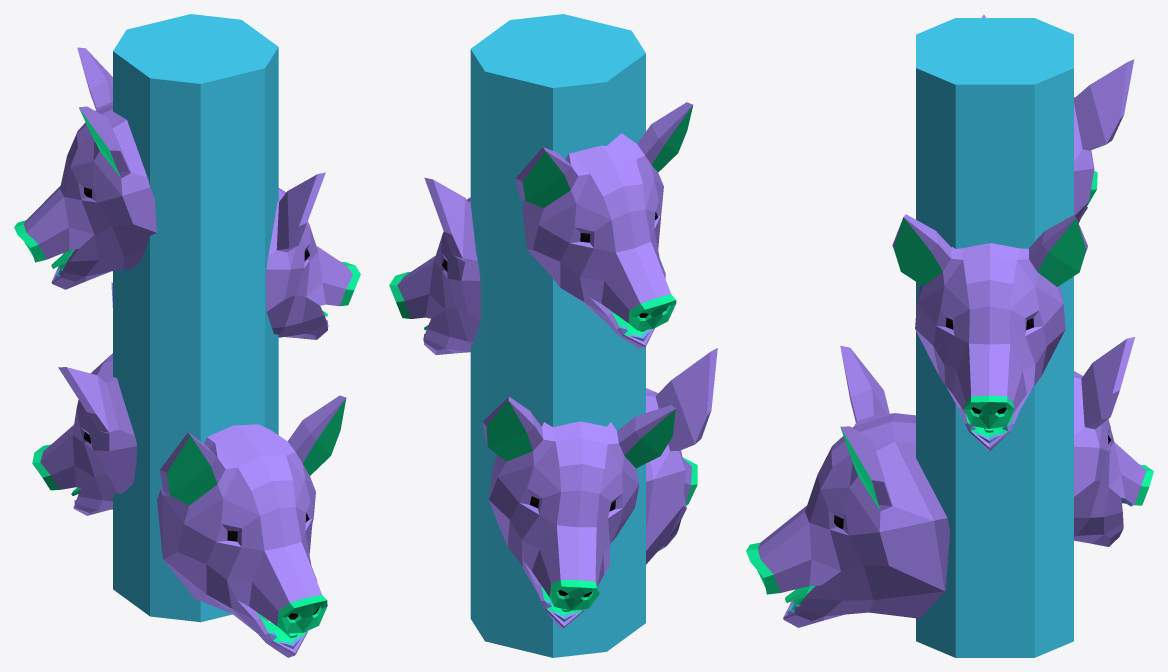
File: 065_Pig.fbx
The picture shows the model from 3 angles, left to right: view 1: azimuth 30°, elevation 25°; view 2: azimuth 150°, elevation 25°; view 3: azimuth 270°, elevation 25°; orthographic projection. The views are drawn at different scales.
Parts seen in each view (by area): view 1: PIG1; view 2: PIG1; view 3: PIG1.
Boxes of the visible parts, x1,y1,x2,y2 form: PIG1: (14,14,360,657); PIG1: (389,14,717,657); PIG1: (746,14,1153,657).
Size of the model in its own units: 58.64 by 101 by 64.51.
